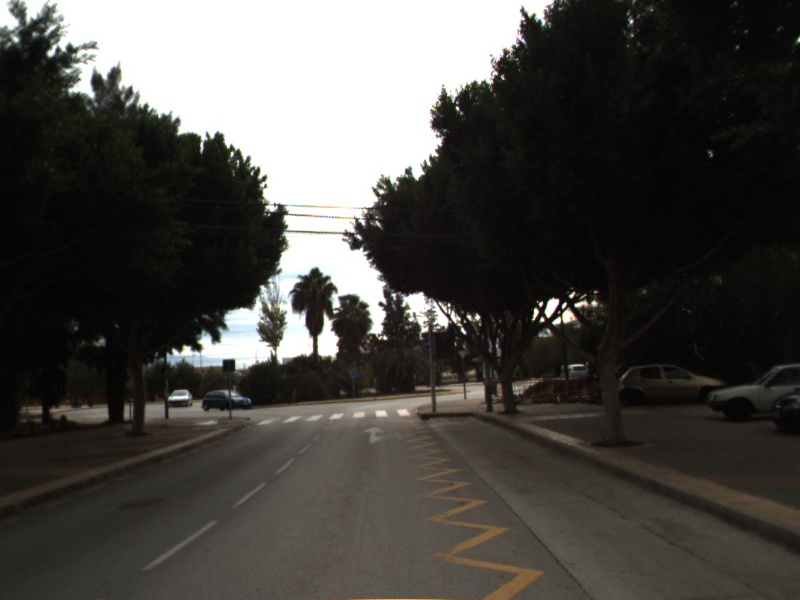STRAIGHT_RIGHT: (360, 424, 408, 445)
